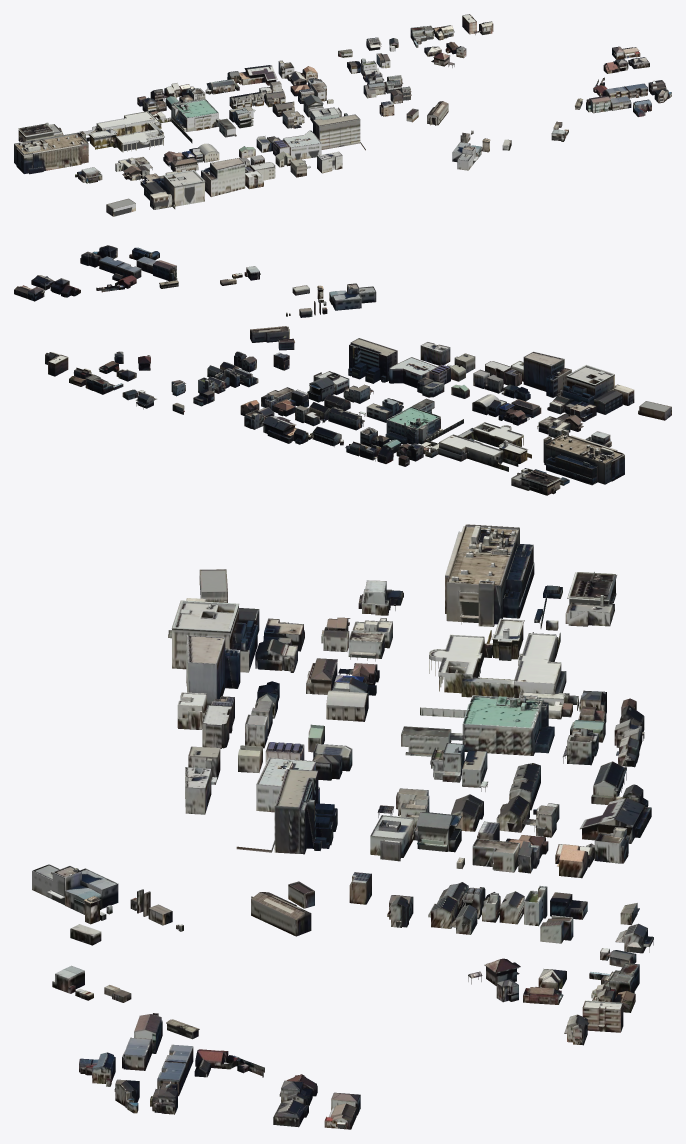
File: 2023-lod3-station-8-2-packed.glb
3 views of the same model, one above another, from view 1: azimuth 30°, elevation 25°; view 2: azimuth 150°, elevation 25°; view 3: azimuth 270°, elevation 25° (orthographic). The views are drawn at different scales.
Size of the model in its own units: 516 by 24.02 by 238.
5 materials, 4 textured.
